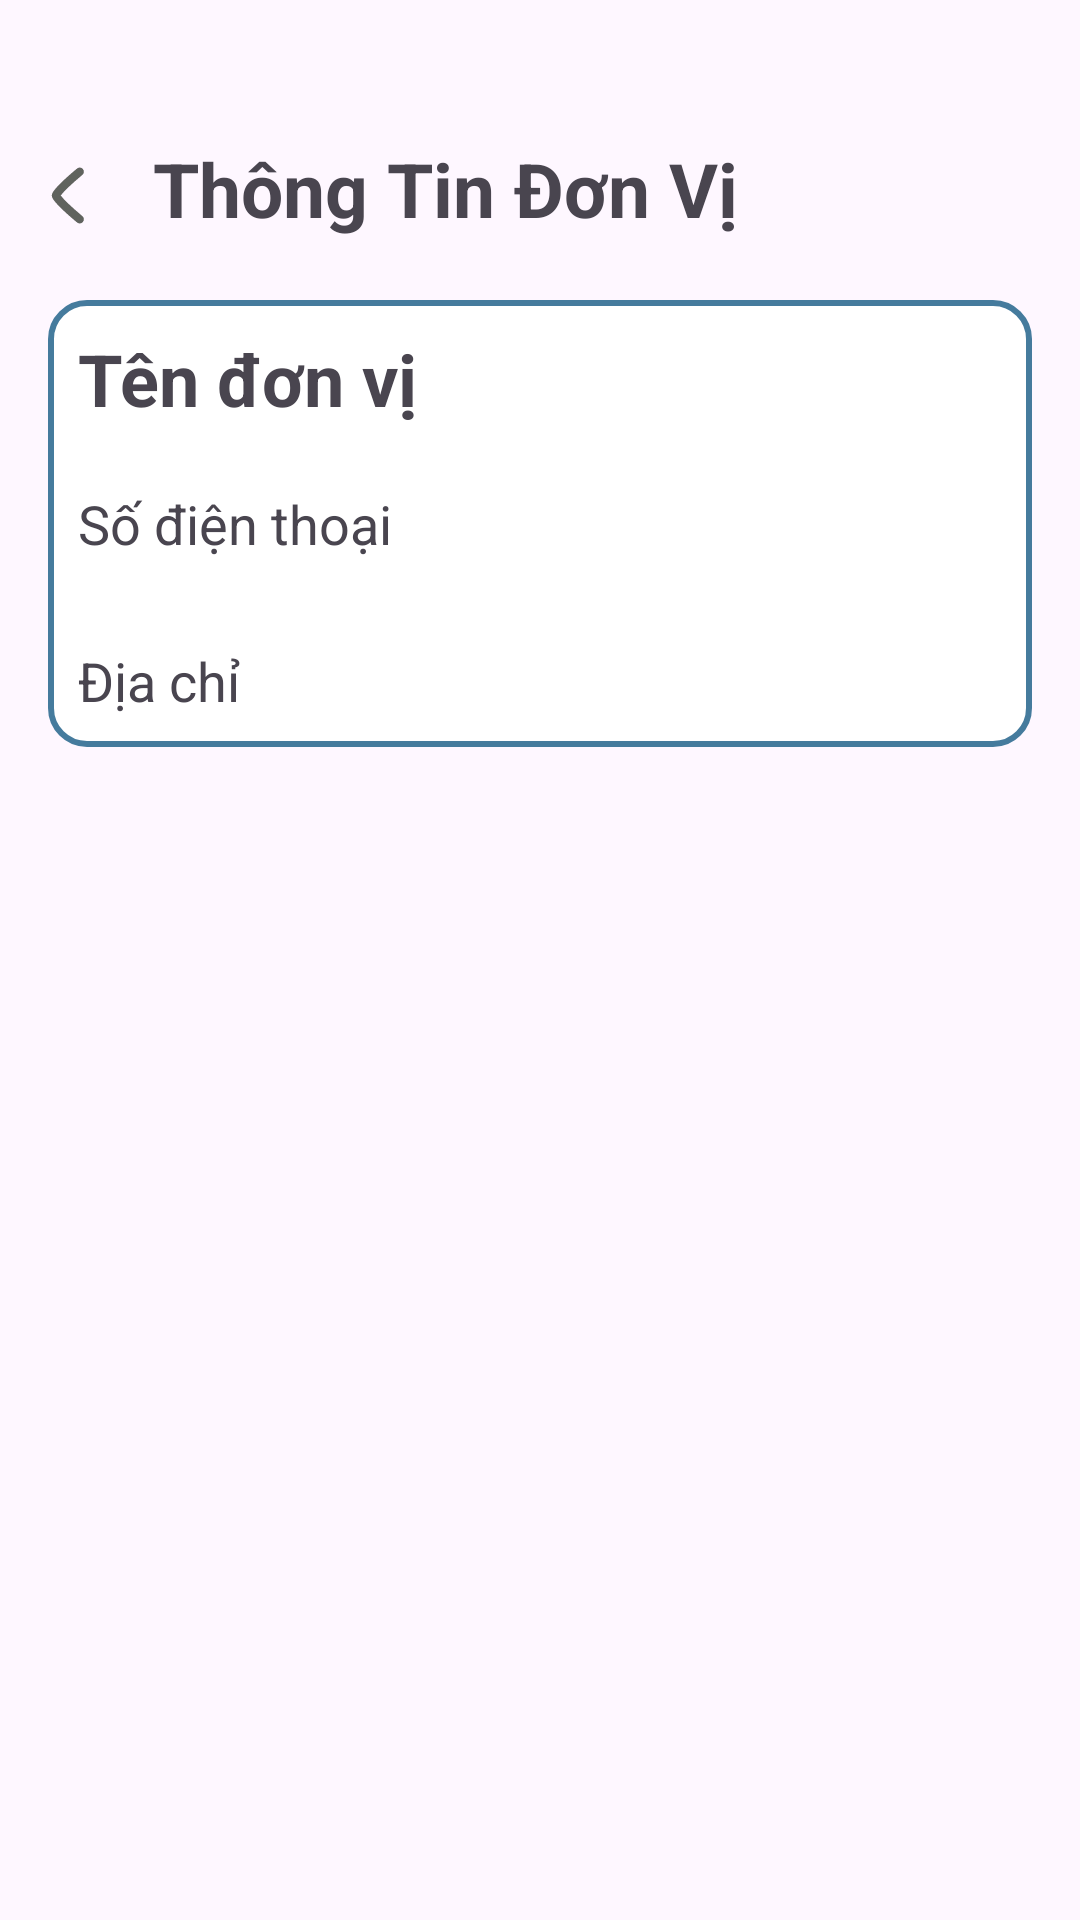

Icon click points for this 1080x1920 phone screenshot, format (x,y):
arrow back: (67,195)
